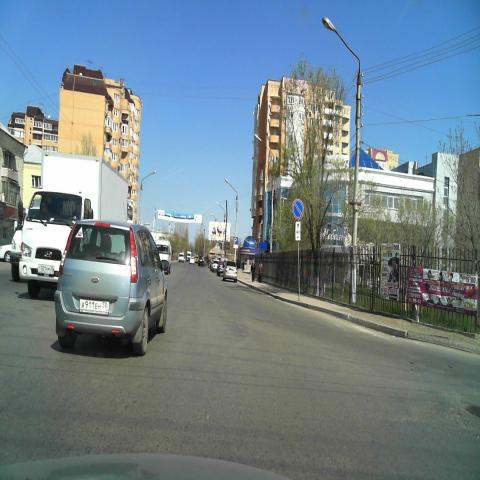3_28: (292, 198, 304, 220)
